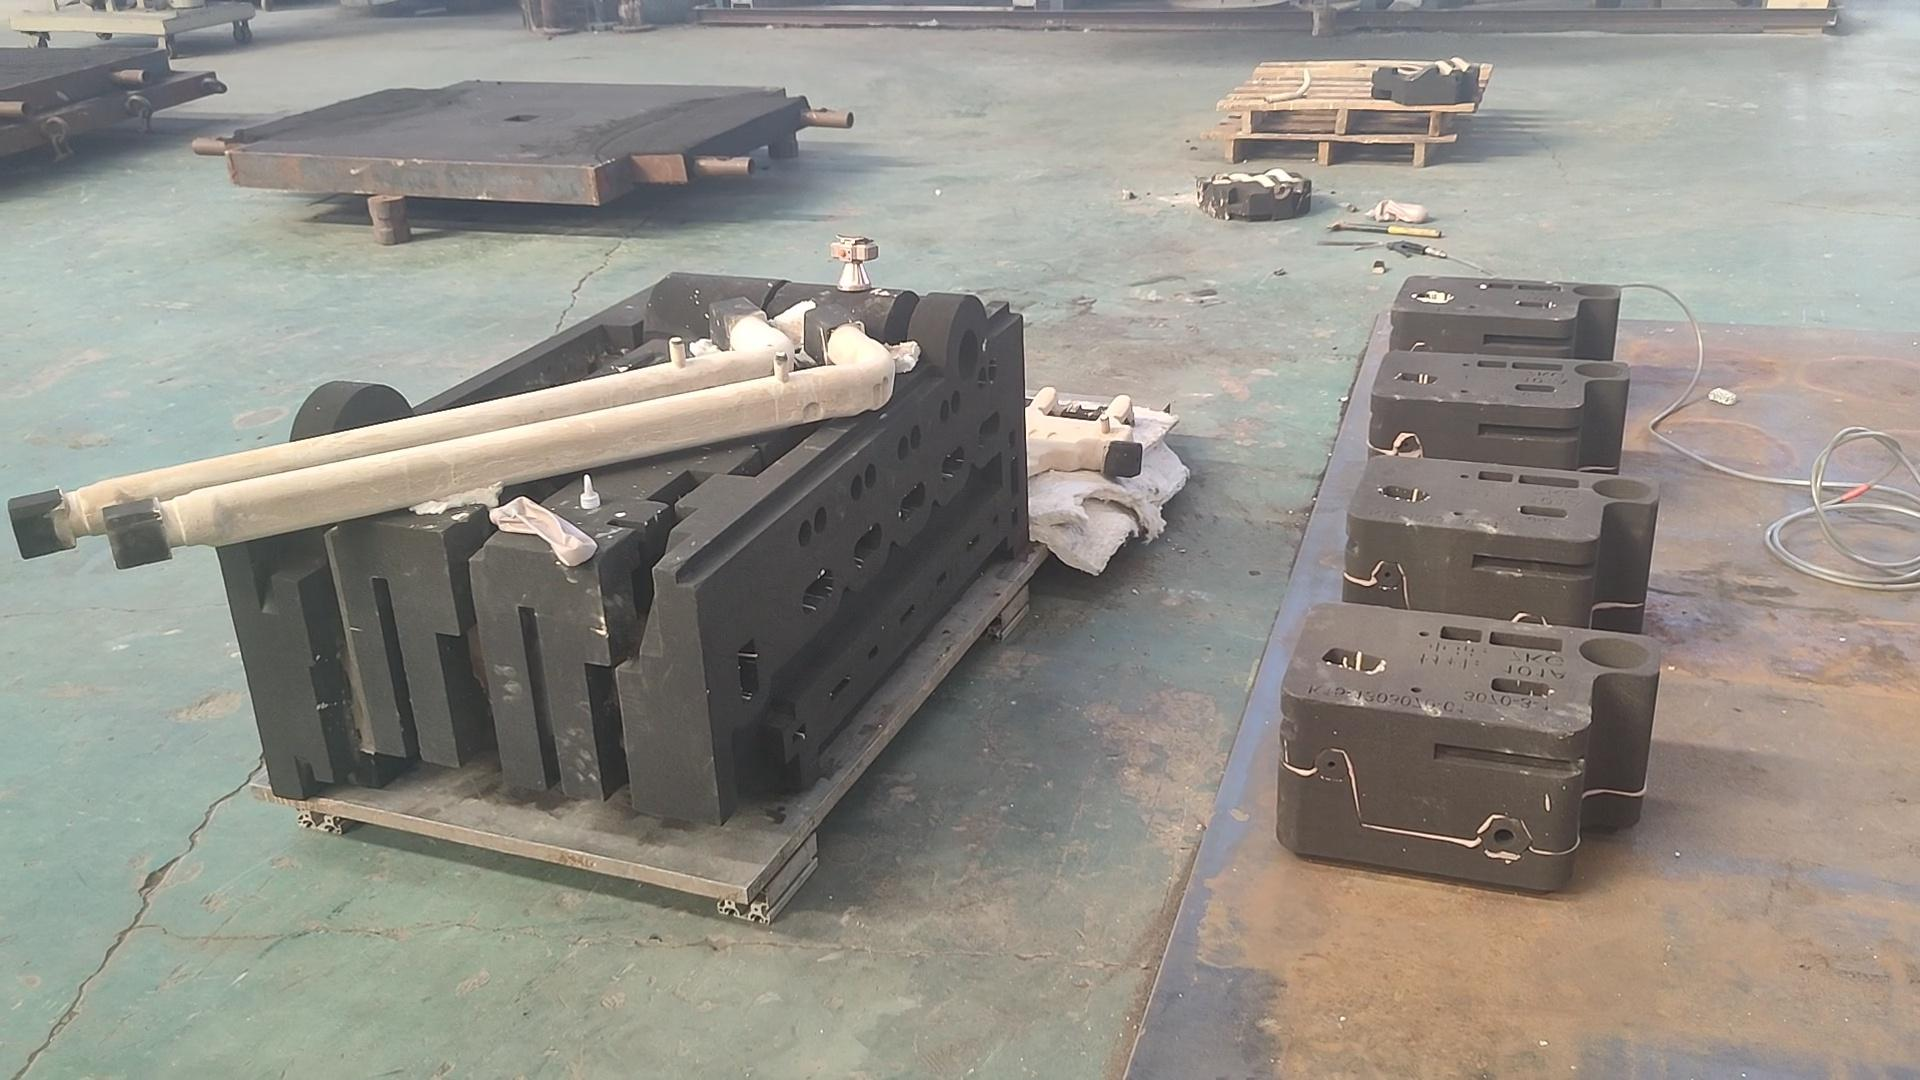pouring hole: (1580, 638, 1648, 669), (1592, 477, 1652, 498), (959, 328, 980, 380), (1575, 361, 1625, 377), (1573, 284, 1619, 295)
